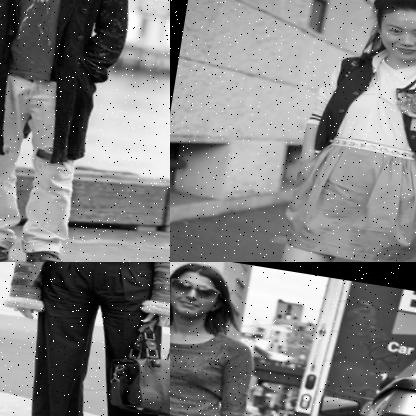jacket: (0, 0, 140, 172), (300, 38, 416, 188), (0, 262, 170, 333)
jean: (0, 67, 92, 258)
pants: (8, 262, 170, 416)
shirt: (170, 319, 258, 416)
skirt: (276, 129, 416, 262)
